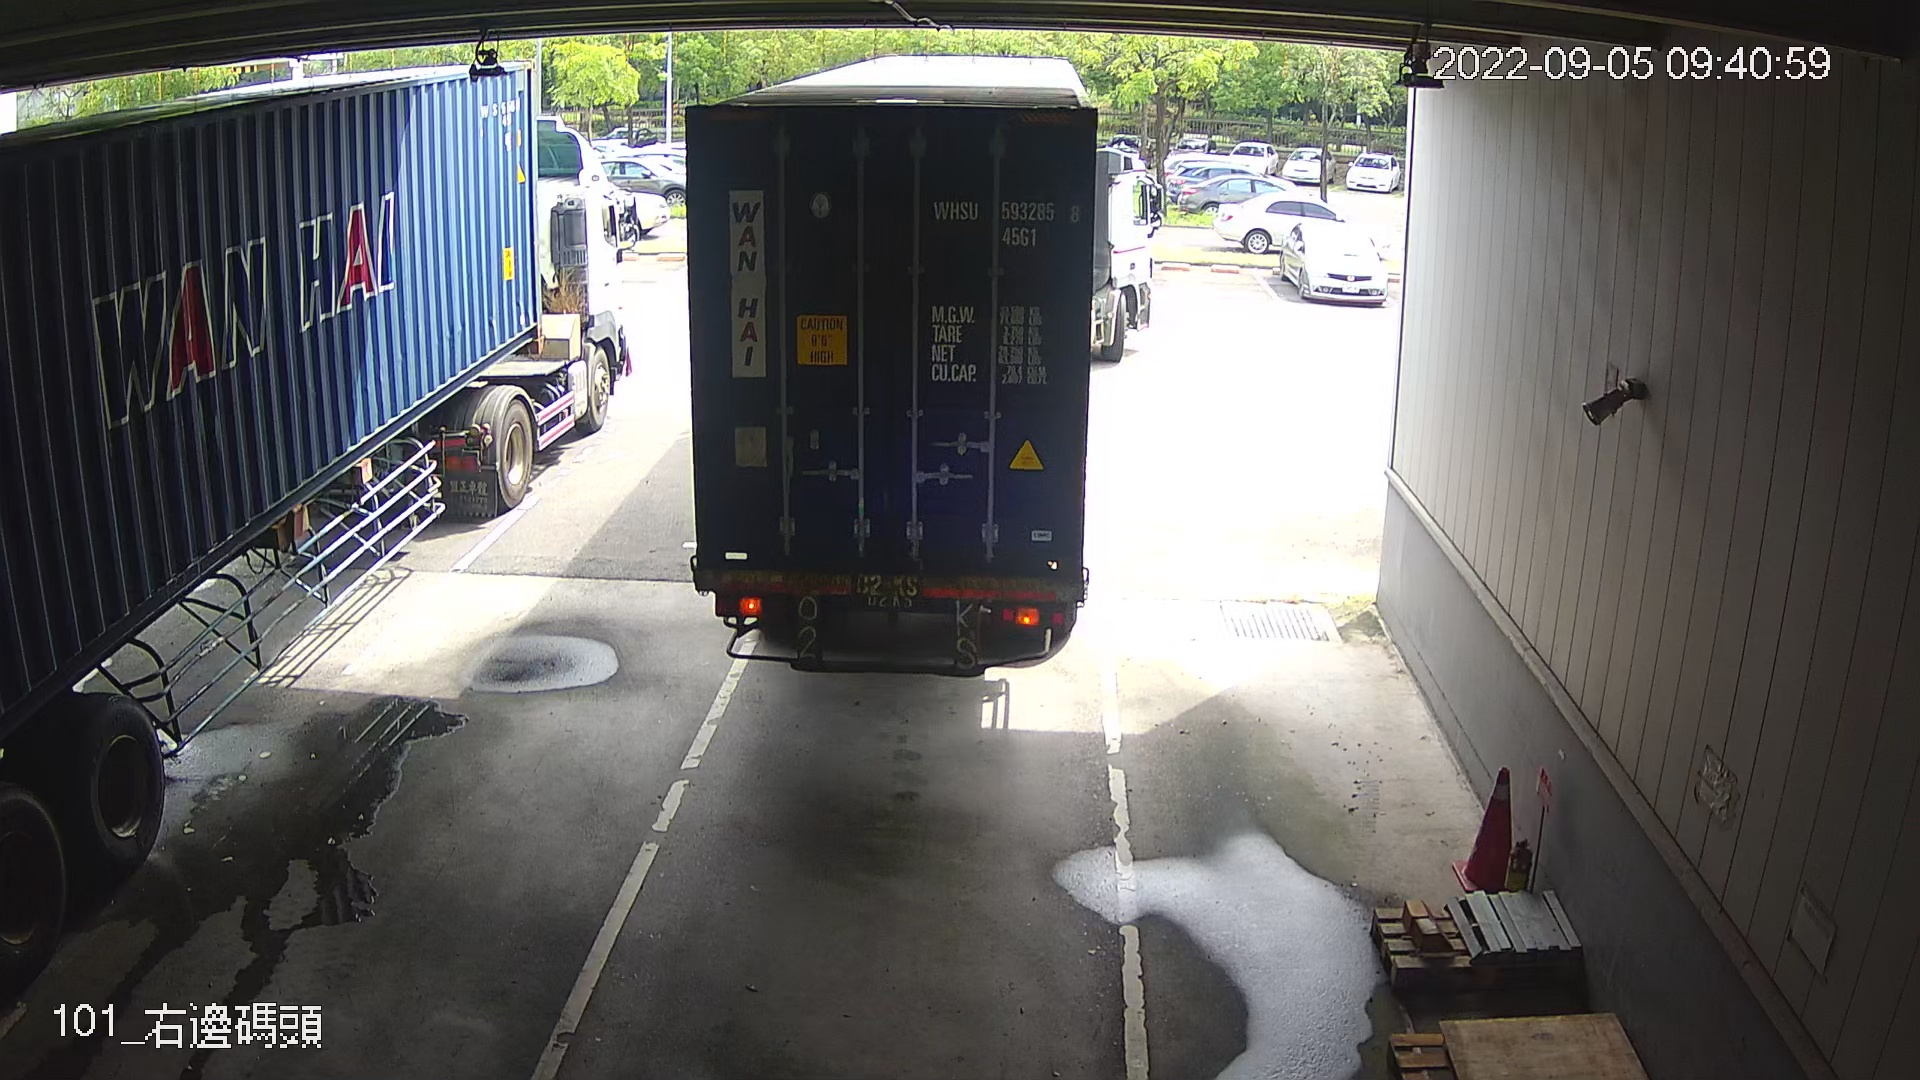container: (926, 186, 1085, 255)
